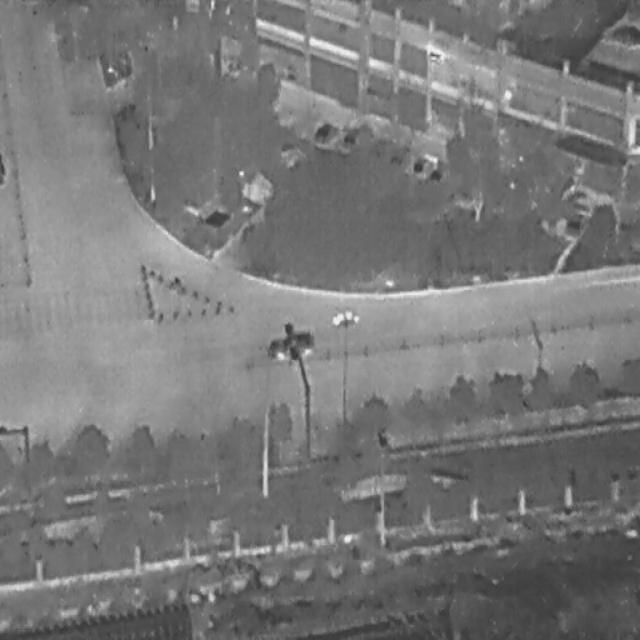Car: (264, 324, 317, 365), (307, 111, 341, 154), (408, 142, 439, 182), (338, 114, 369, 151), (560, 202, 587, 242)
